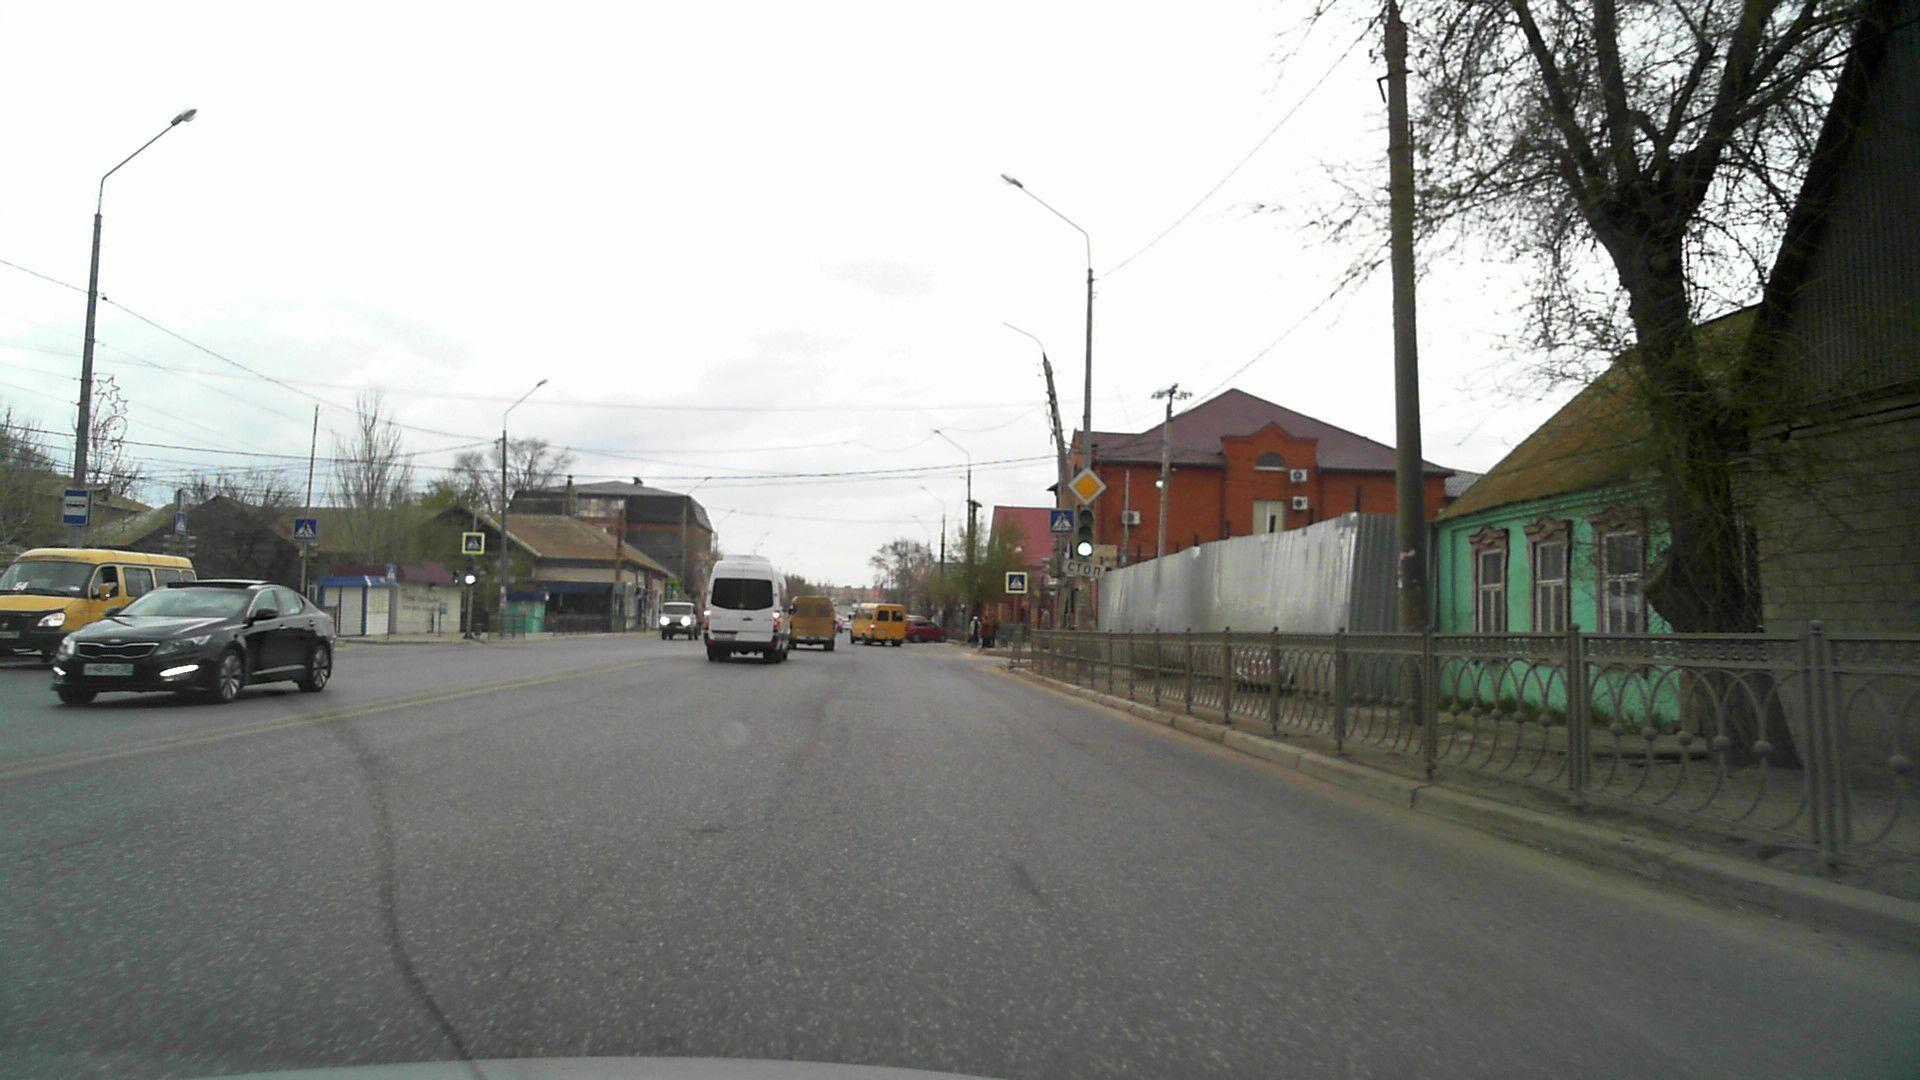2_1: (1069, 469, 1106, 504)
5_16: (65, 488, 88, 525)
5_19_1: (1052, 510, 1075, 533), (1007, 575, 1027, 593), (175, 513, 186, 531)
5_19_2: (295, 518, 319, 542), (465, 535, 483, 553)
6_16: (1064, 559, 1102, 578)
